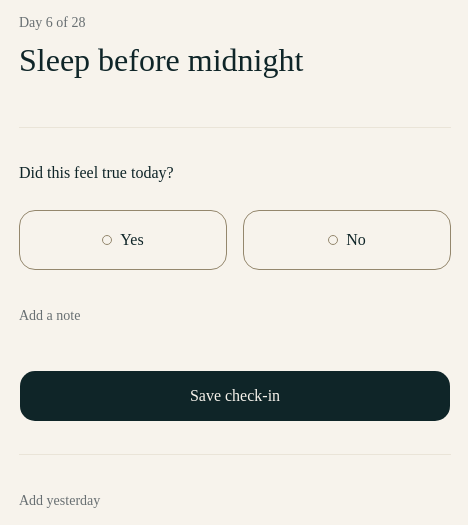
TodayDashboard › during the season › saves an answer and shows the calm completed state
The width and height of the screenshot is (468, 525).
Click the radio button labelled "Yes". click: (123,240)
box: [19, 210, 227, 270]
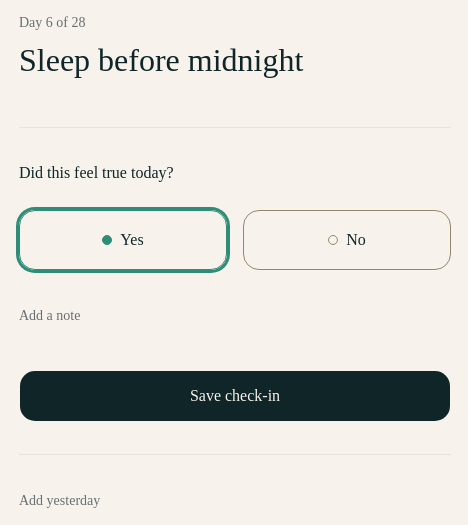
Click the button "Save check-in". click: (235,396)
box: [19, 370, 451, 422]
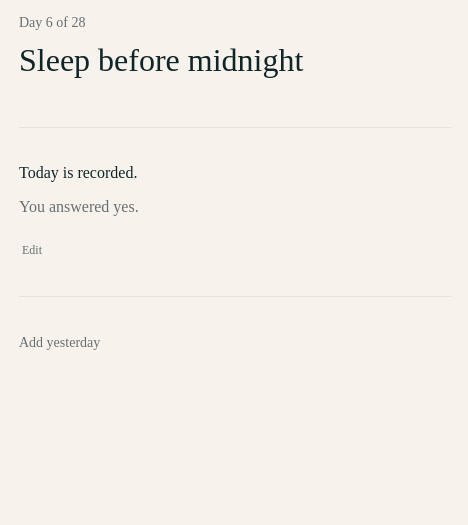
Now the heading "Today is recorded." is shown, box [19, 164, 137, 181]
Now the text "You answered yes." is shown, box [19, 198, 139, 215]
